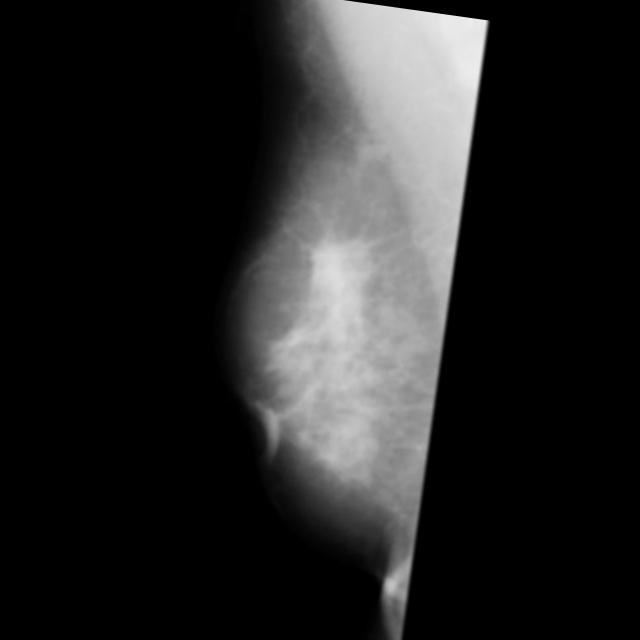SPIC: (291, 218, 389, 317)
